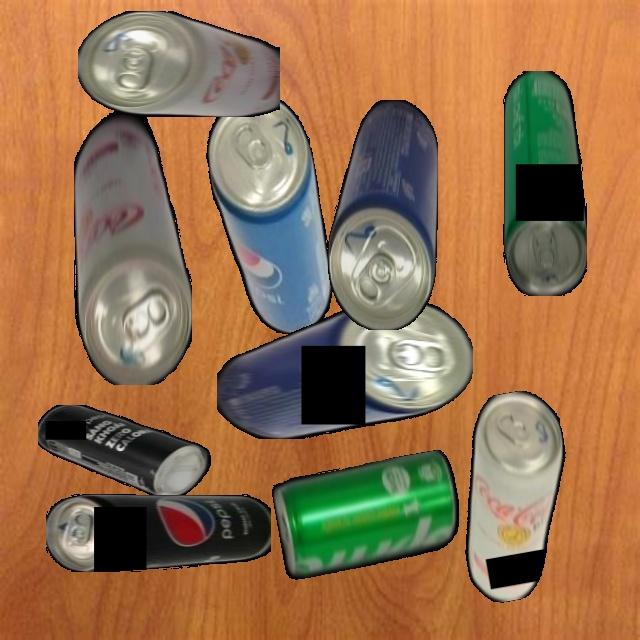debris: (198, 90, 342, 342), (216, 300, 473, 439), (73, 95, 192, 385), (440, 385, 589, 607), (270, 448, 467, 581), (327, 99, 438, 330), (78, 10, 280, 117), (502, 70, 587, 296), (46, 493, 271, 572), (38, 404, 216, 496)
